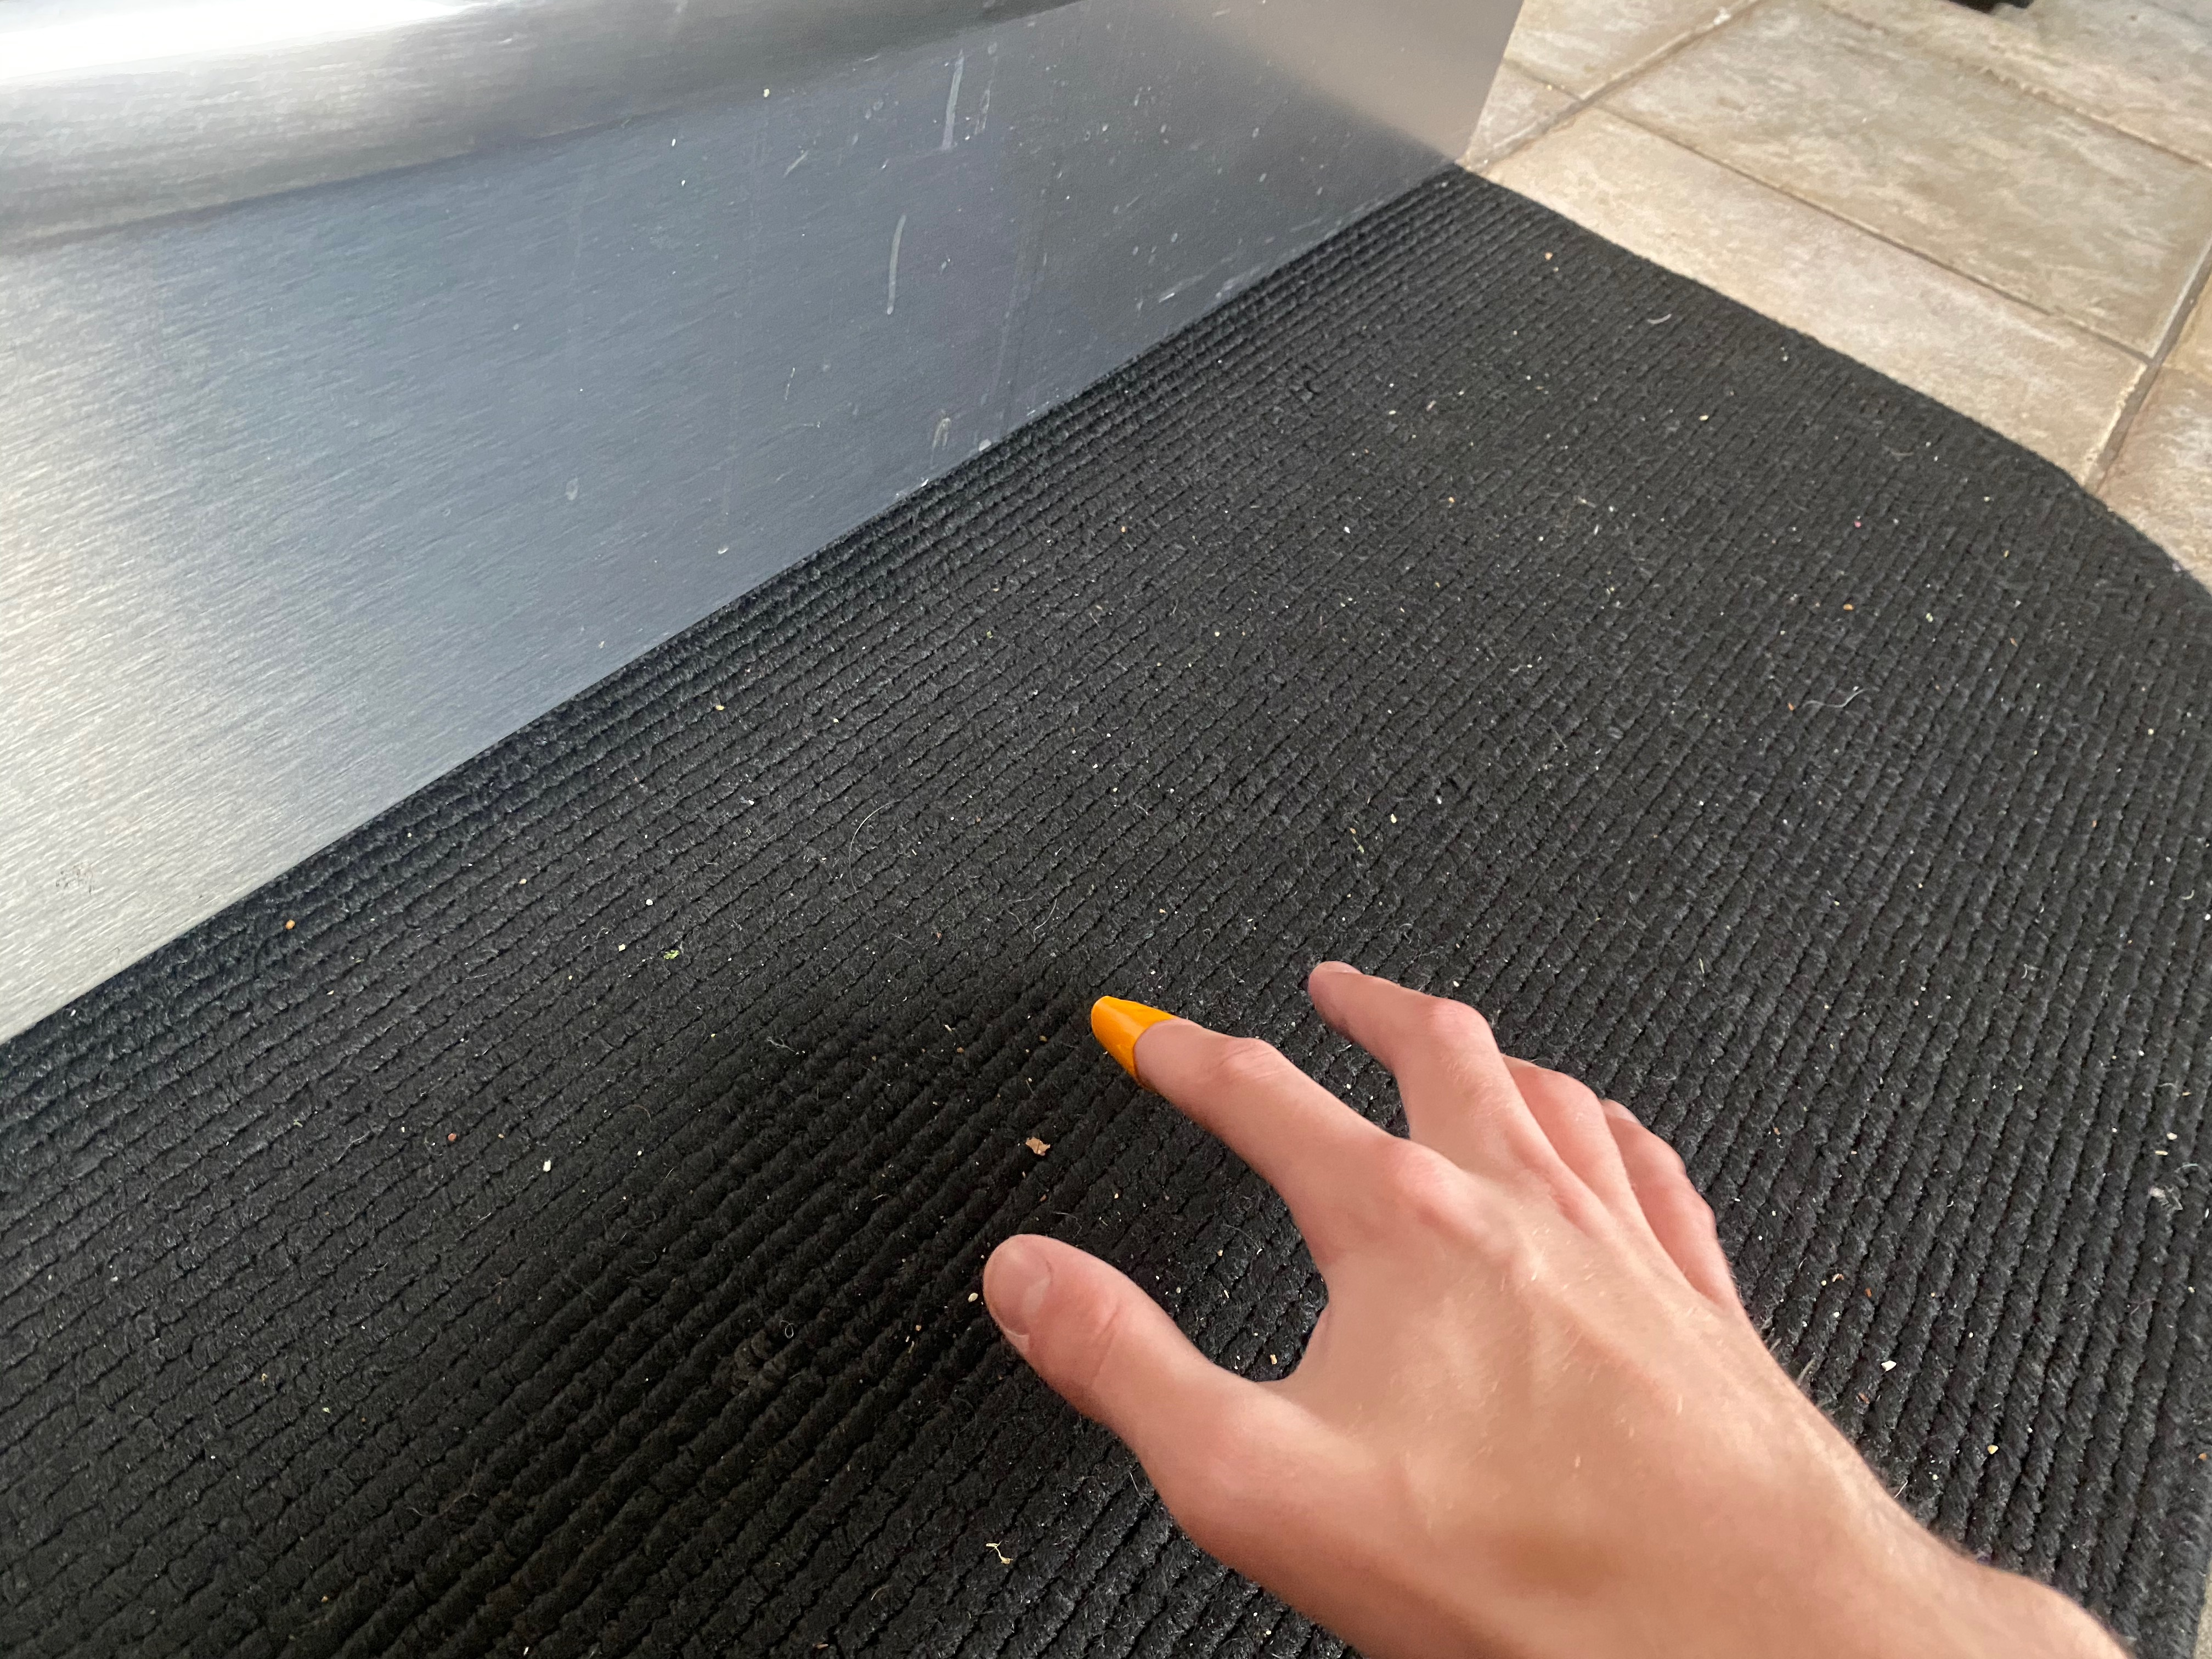fingertip: (1049, 988, 1211, 1094)
